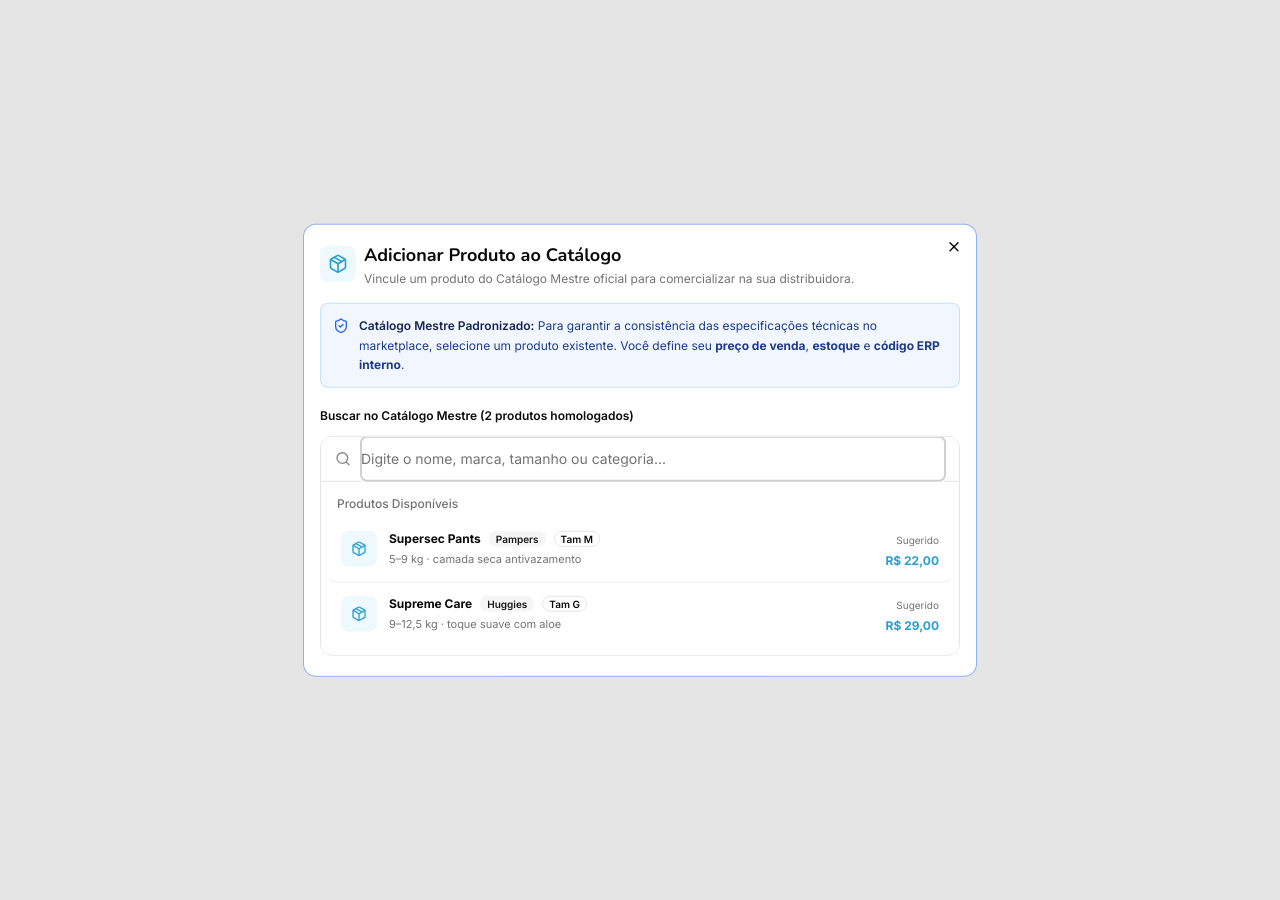
Test: AddProductDialog Component › validates price and stock before submission
// Select item
Click the option with test id "master-item-m1" at {"x": 359, "y": 548}, box x1=329 y1=517 x2=951 y2=582
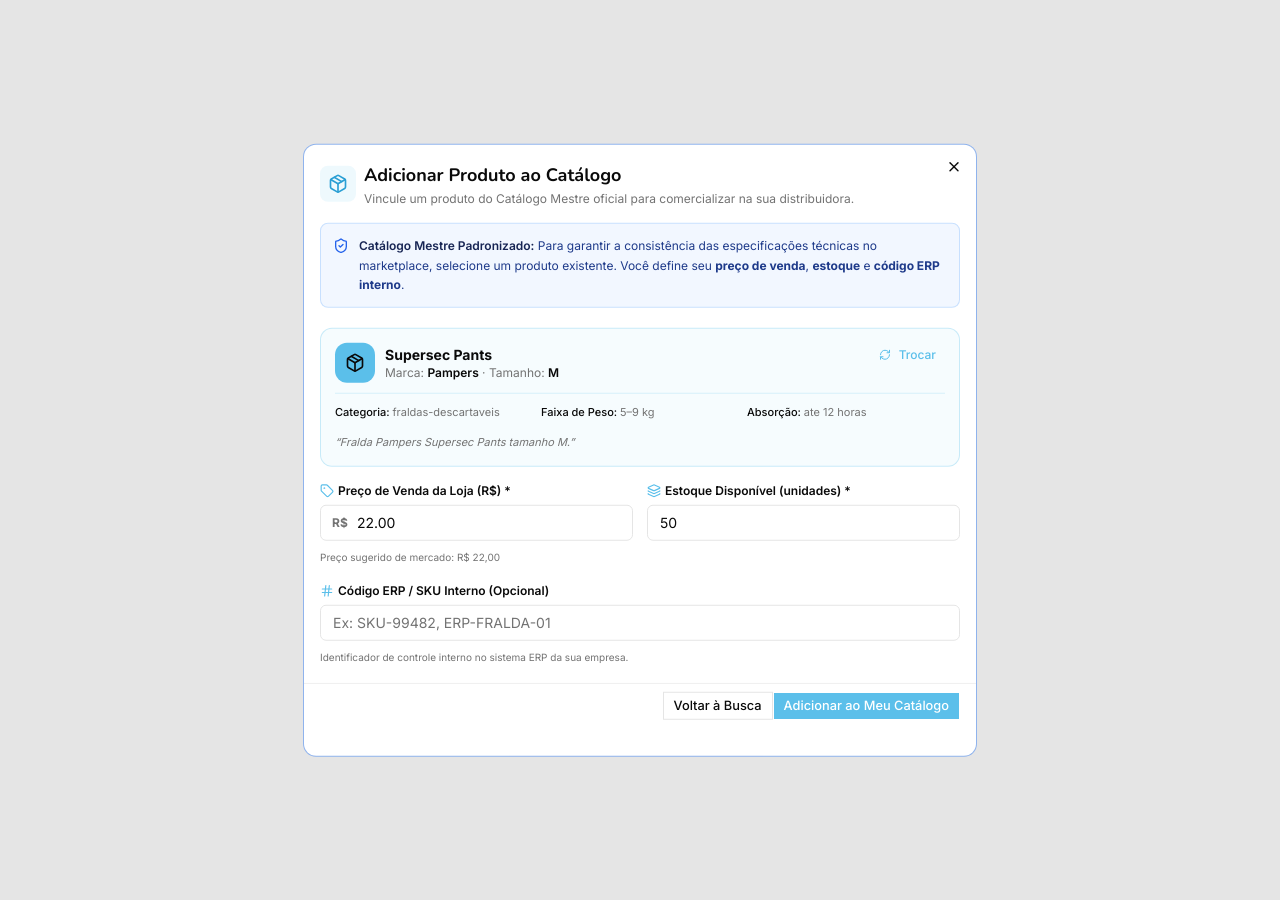
// Clear price
Clear the number field with test id "custom-price-input" at {"x": 476, "y": 522}, box x1=320 y1=504 x2=633 y2=540
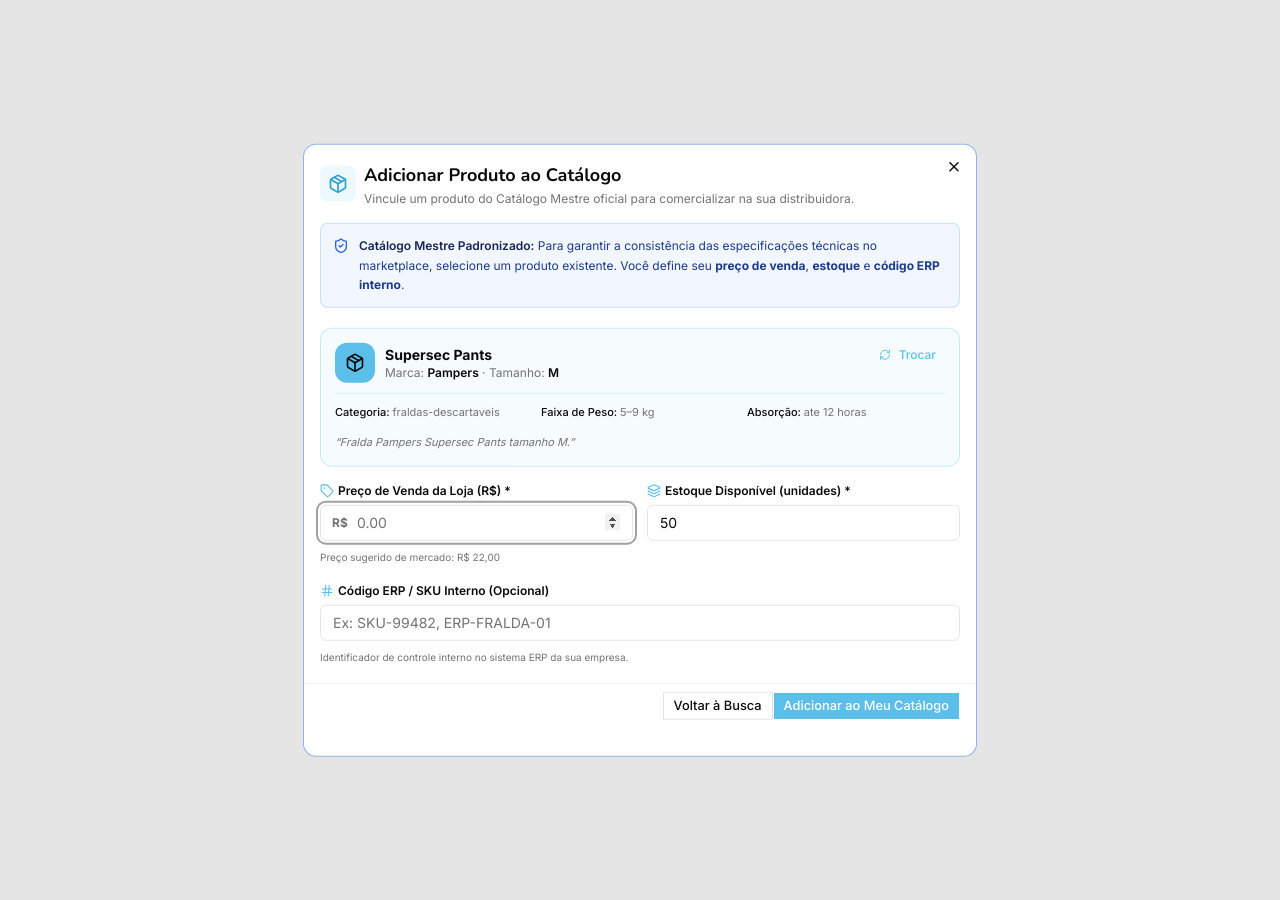
Click the button with test id "submit-add-product-btn" at {"x": 866, "y": 705}, box x1=773 y1=691 x2=960 y2=719
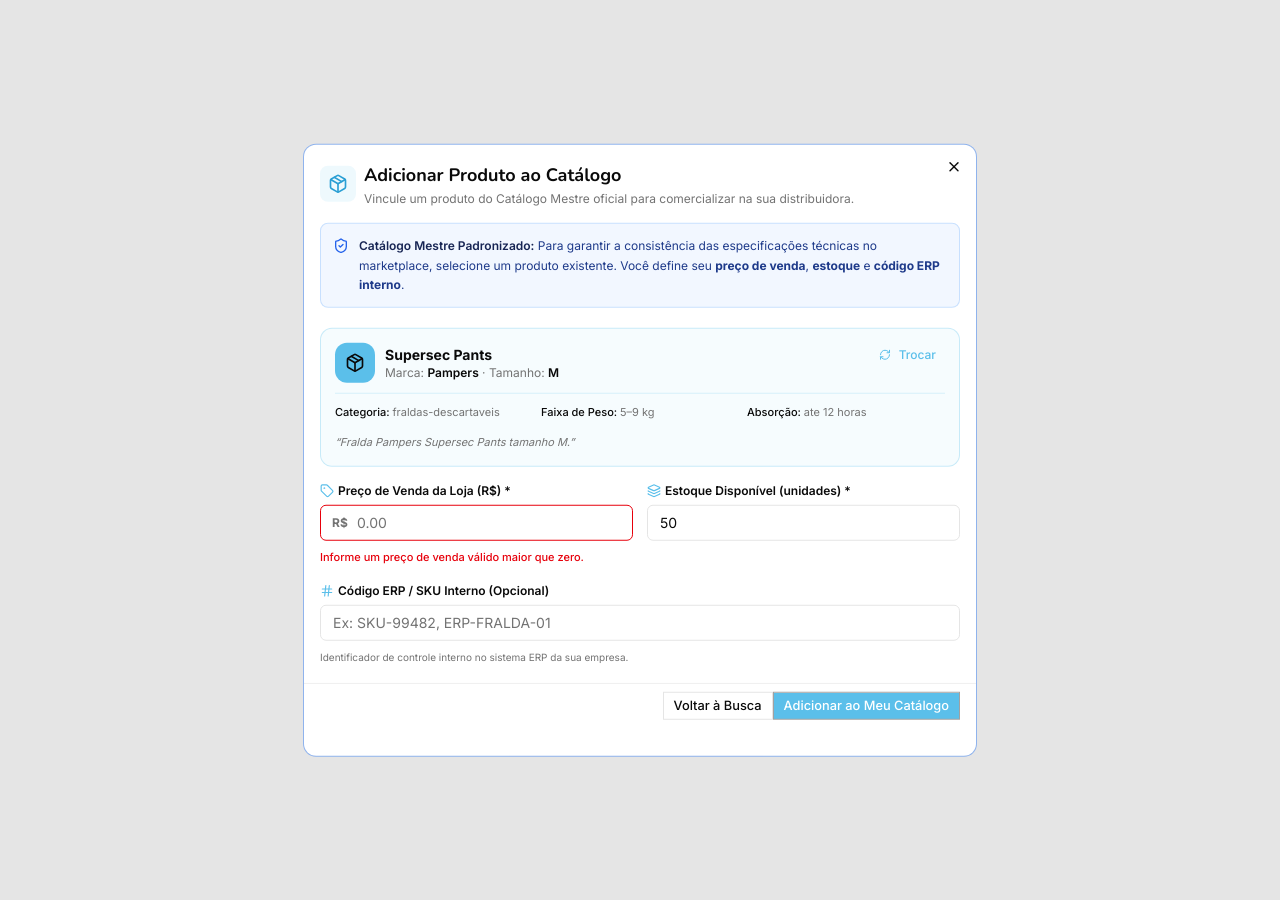
Now the text "Informe um preço de venda válido maior que zero." is shown, box x1=320 y1=549 x2=584 y2=563
